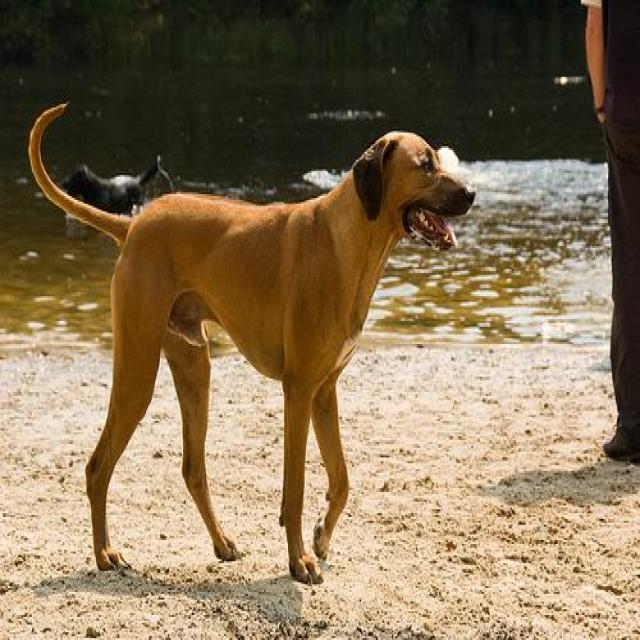rhodesian_ridgeback: (26, 95, 476, 582)
